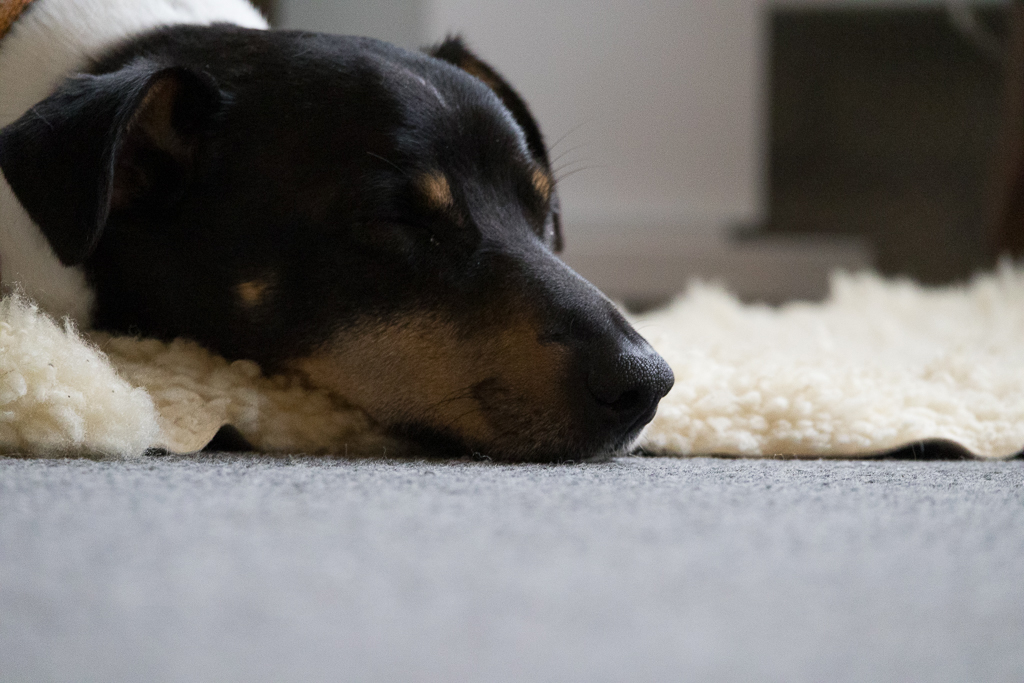Dog: (0, 0, 684, 475)
